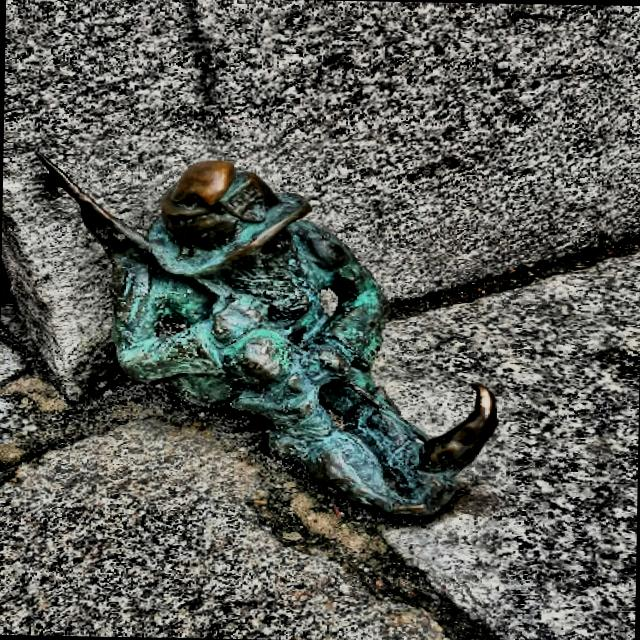Spioch: (45, 159, 496, 515)
